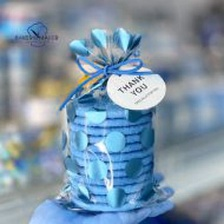snack: (45, 20, 173, 218)
